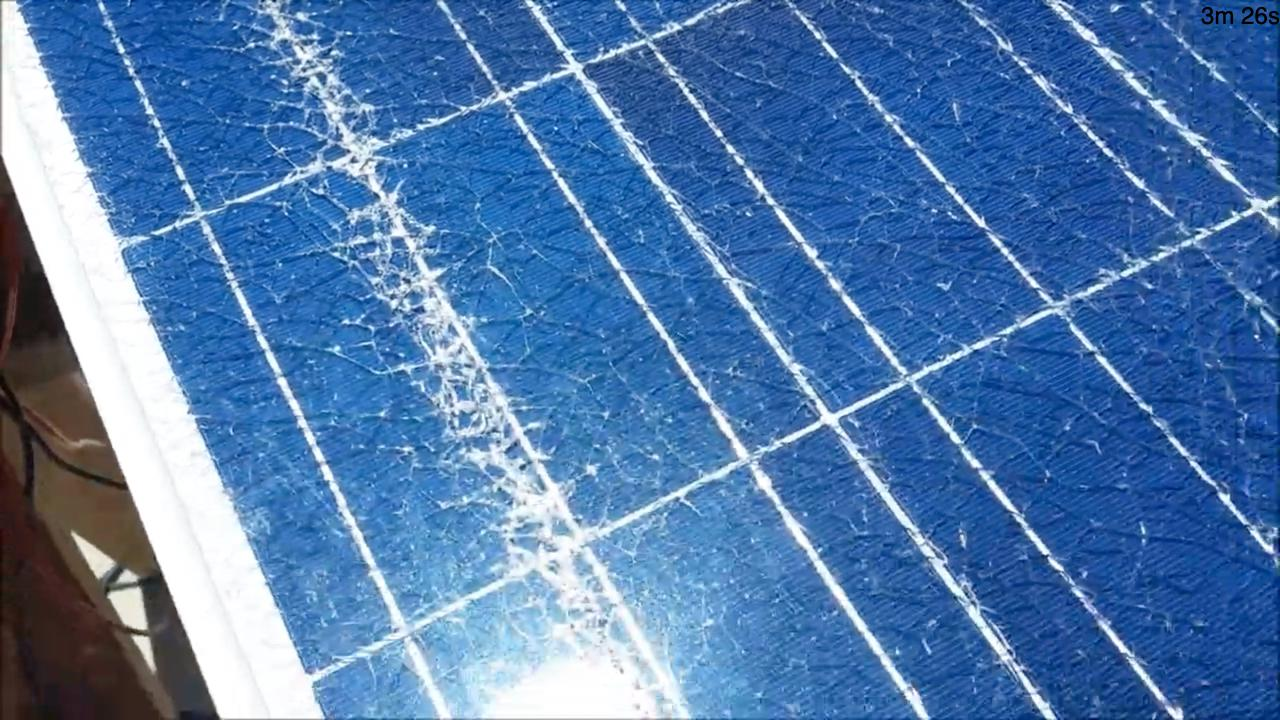Crack: (222, 3, 673, 720)
